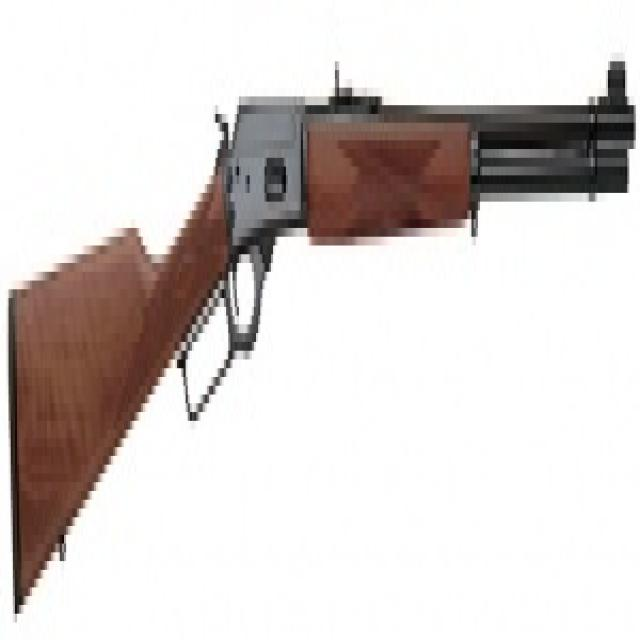rifle: (7, 1, 640, 627)
